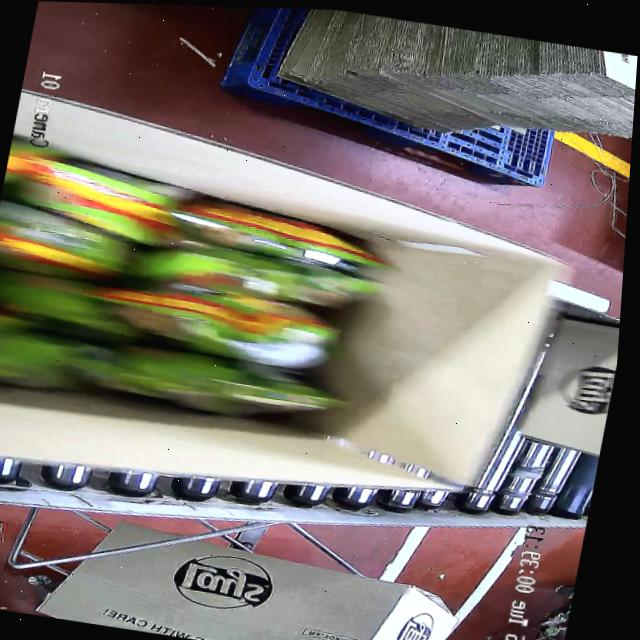YOGURT_HERB: (0, 150, 408, 439)
